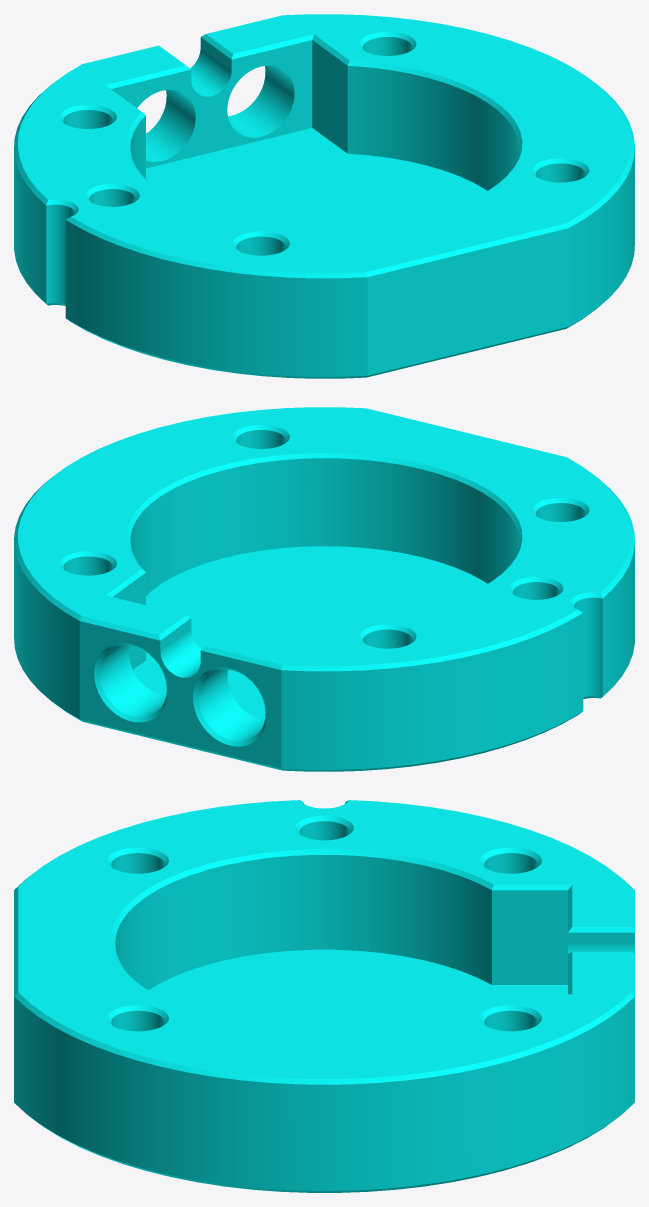
The model's file is 00_ManifoldV2.dae.
The picture shows the model from 3 angles, top to bottom: view 1: azimuth 30°, elevation 25°; view 2: azimuth 150°, elevation 25°; view 3: azimuth 270°, elevation 25°; orthographic projection. The views are drawn at different scales.
Visible parts, largest first — view 1: Manifold_-_V2; view 2: Manifold_-_V2; view 3: Manifold_-_V2.
Part boxes in pixels (x1,y1,x2,y2): Manifold_-_V2: (14,14,634,378); Manifold_-_V2: (14,407,634,771); Manifold_-_V2: (14,800,634,1192).
Size of the model in its own units: 79.92 by 74.16 by 15.
